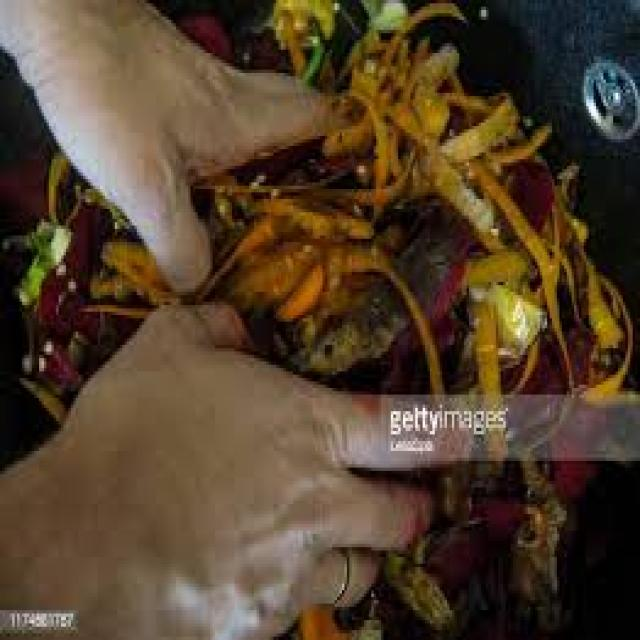Stale_Carrot: (258, 54, 566, 410)
